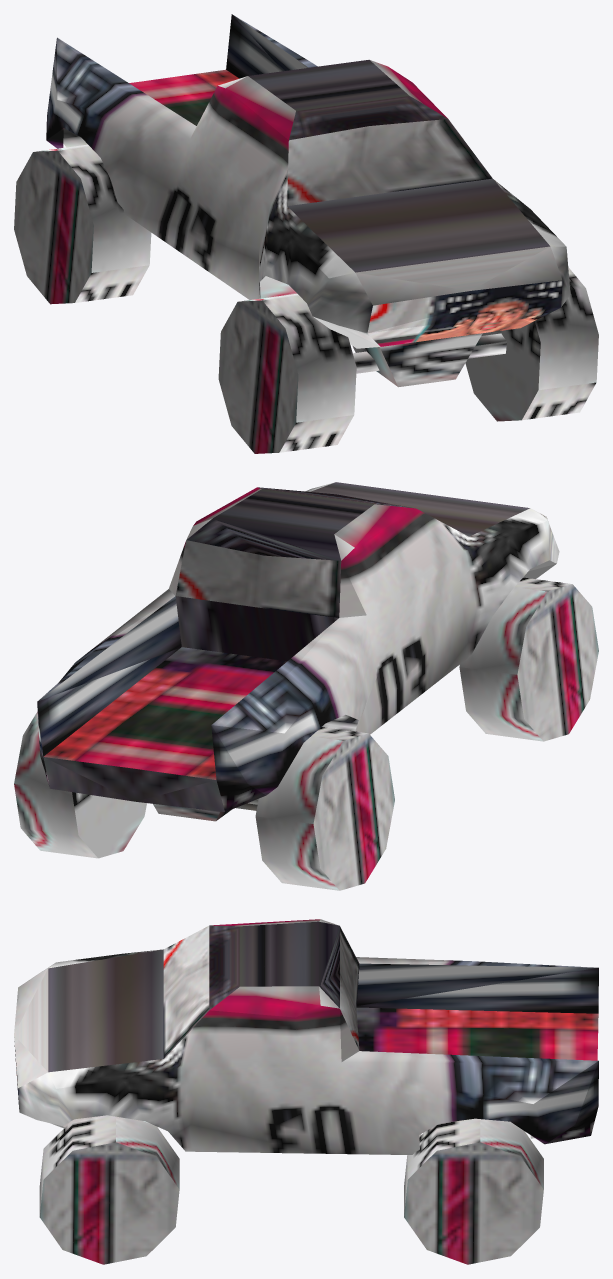
The model's file is iconview.ico.obj.
The picture shows the model from 3 angles, top to bottom: view 1: azimuth 30°, elevation 25°; view 2: azimuth 150°, elevation 25°; view 3: azimuth 270°, elevation 25°; orthographic projection. The views are drawn at different scales.
Bounding box in the file's own units: 2.48 × 2.22 × 4.48.
